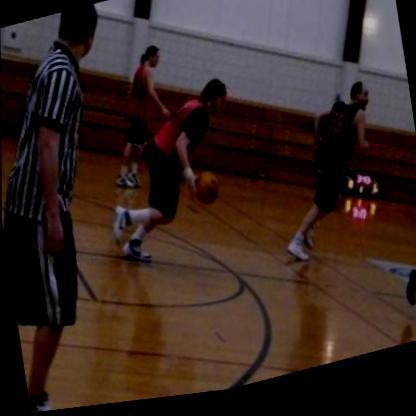basketball: (188, 169, 221, 214)
